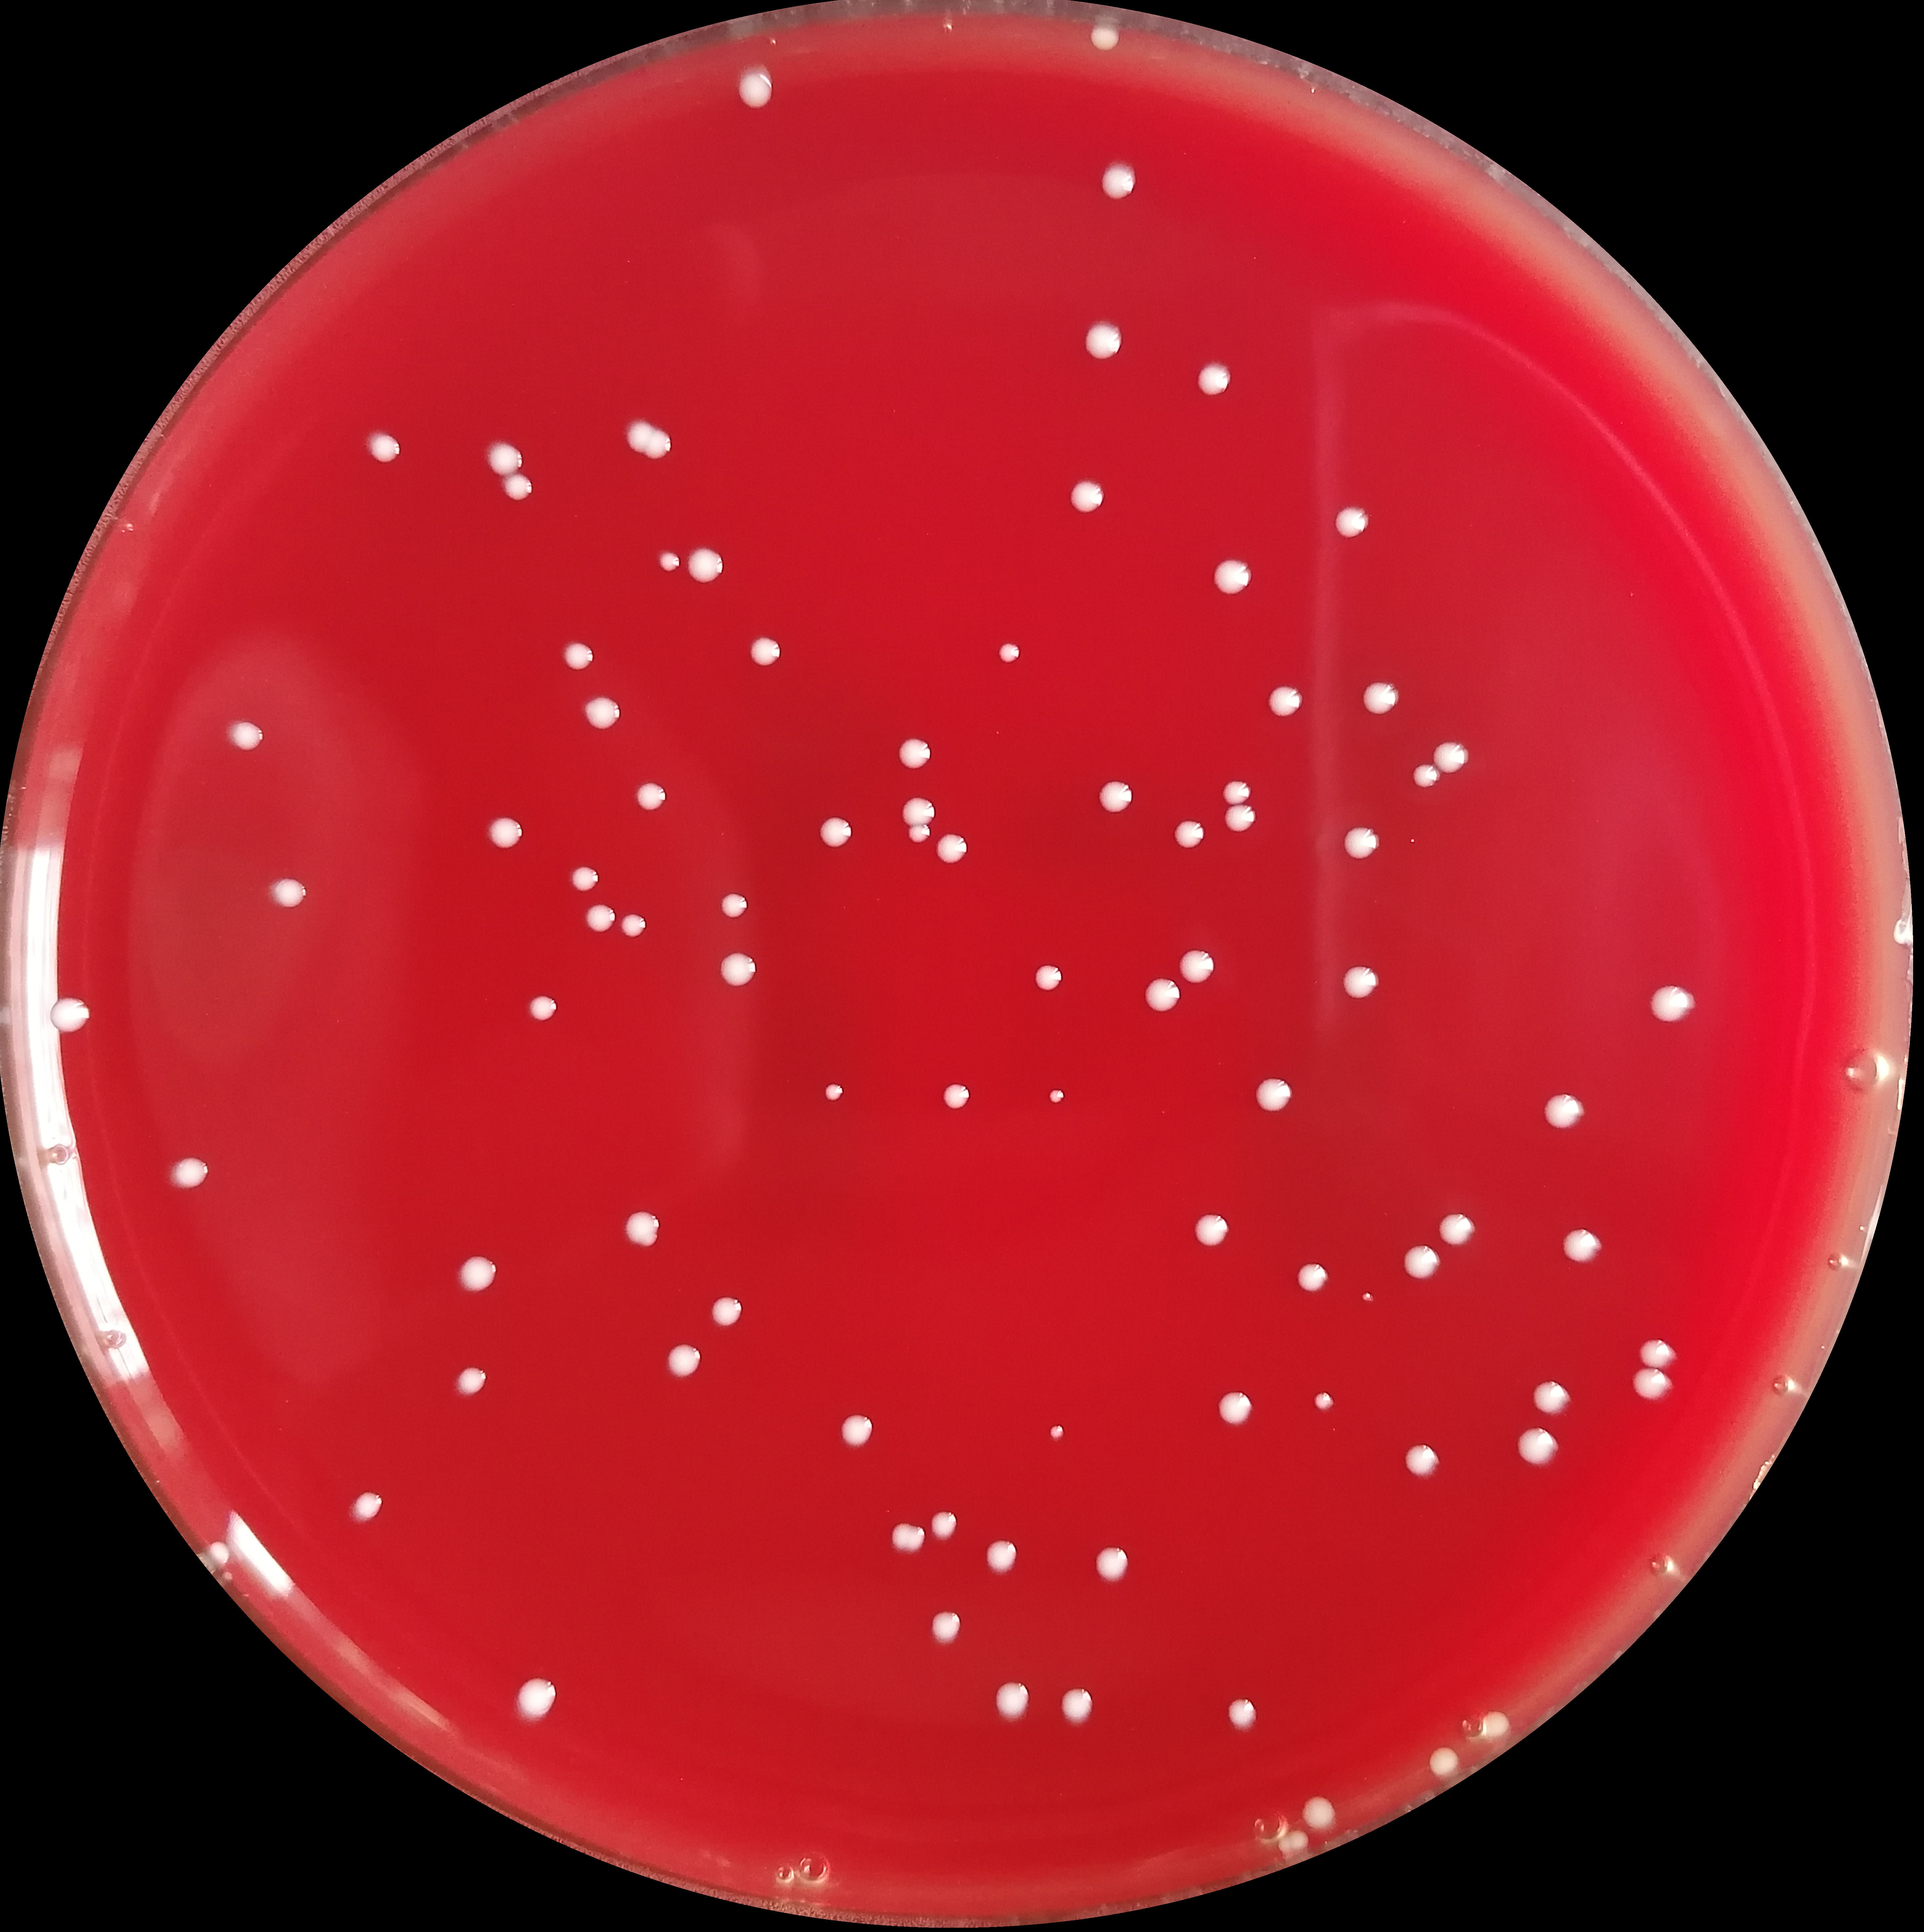sp21: (729, 63, 779, 111), (1080, 319, 1129, 367), (513, 1673, 557, 1726), (1513, 1424, 1561, 1470), (1558, 1223, 1605, 1267), (1142, 975, 1186, 1019), (1542, 1089, 1586, 1133), (46, 994, 90, 1037), (455, 1252, 497, 1296), (992, 1678, 1032, 1722), (1626, 1364, 1672, 1403), (1189, 1209, 1232, 1250), (1195, 360, 1239, 398), (1173, 947, 1217, 985), (719, 950, 759, 991), (1066, 476, 1108, 515), (1434, 1209, 1476, 1248), (1399, 1241, 1441, 1280), (1339, 962, 1381, 1001), (1647, 984, 1691, 1021), (1099, 162, 1140, 201), (1265, 684, 1306, 723), (684, 546, 726, 583), (622, 1211, 664, 1248), (1637, 1336, 1679, 1373), (1251, 1077, 1295, 1112), (1212, 557, 1251, 596), (666, 1340, 703, 1380), (1092, 1544, 1129, 1585), (1531, 1378, 1572, 1416), (1290, 1260, 1334, 1294), (1360, 679, 1399, 716), (1404, 1442, 1441, 1481), (581, 696, 622, 732), (816, 814, 856, 850), (1341, 825, 1380, 860), (1096, 779, 1135, 814), (839, 1412, 874, 1451), (1216, 1391, 1254, 1426), (1087, 21, 1124, 56), (488, 442, 523, 479), (1300, 1795, 1337, 1830), (1332, 504, 1371, 538), (747, 635, 786, 668), (171, 1156, 210, 1190), (888, 1521, 927, 1555), (1059, 1685, 1092, 1724), (708, 1296, 744, 1331), (1427, 1745, 1462, 1780), (934, 832, 971, 866), (634, 779, 668, 816), (486, 816, 523, 850), (895, 737, 932, 770), (900, 795, 937, 829), (349, 1490, 386, 1523), (1170, 818, 1209, 850), (455, 1364, 488, 1400), (927, 1609, 962, 1643), (1225, 1696, 1260, 1729), (1431, 742, 1468, 774), (983, 1539, 1020, 1571), (624, 421, 657, 455), (927, 1509, 960, 1542), (560, 638, 596, 670), (583, 903, 618, 934), (365, 432, 400, 464), (229, 721, 264, 753), (271, 880, 308, 908), (1480, 1708, 1512, 1740), (643, 427, 673, 460), (1223, 776, 1254, 806), (941, 1082, 973, 1112), (1223, 804, 1256, 832), (717, 892, 751, 920), (504, 472, 532, 504), (1408, 763, 1441, 790), (525, 996, 559, 1022), (618, 913, 650, 940), (573, 864, 601, 892), (1034, 964, 1064, 991), (994, 640, 1024, 665), (821, 1081, 846, 1107), (657, 552, 680, 575), (1311, 1389, 1336, 1410), (907, 821, 930, 843), (1288, 1830, 1309, 1851), (1048, 1423, 1068, 1442), (1048, 1088, 1066, 1105), (1360, 1290, 1380, 1304)
